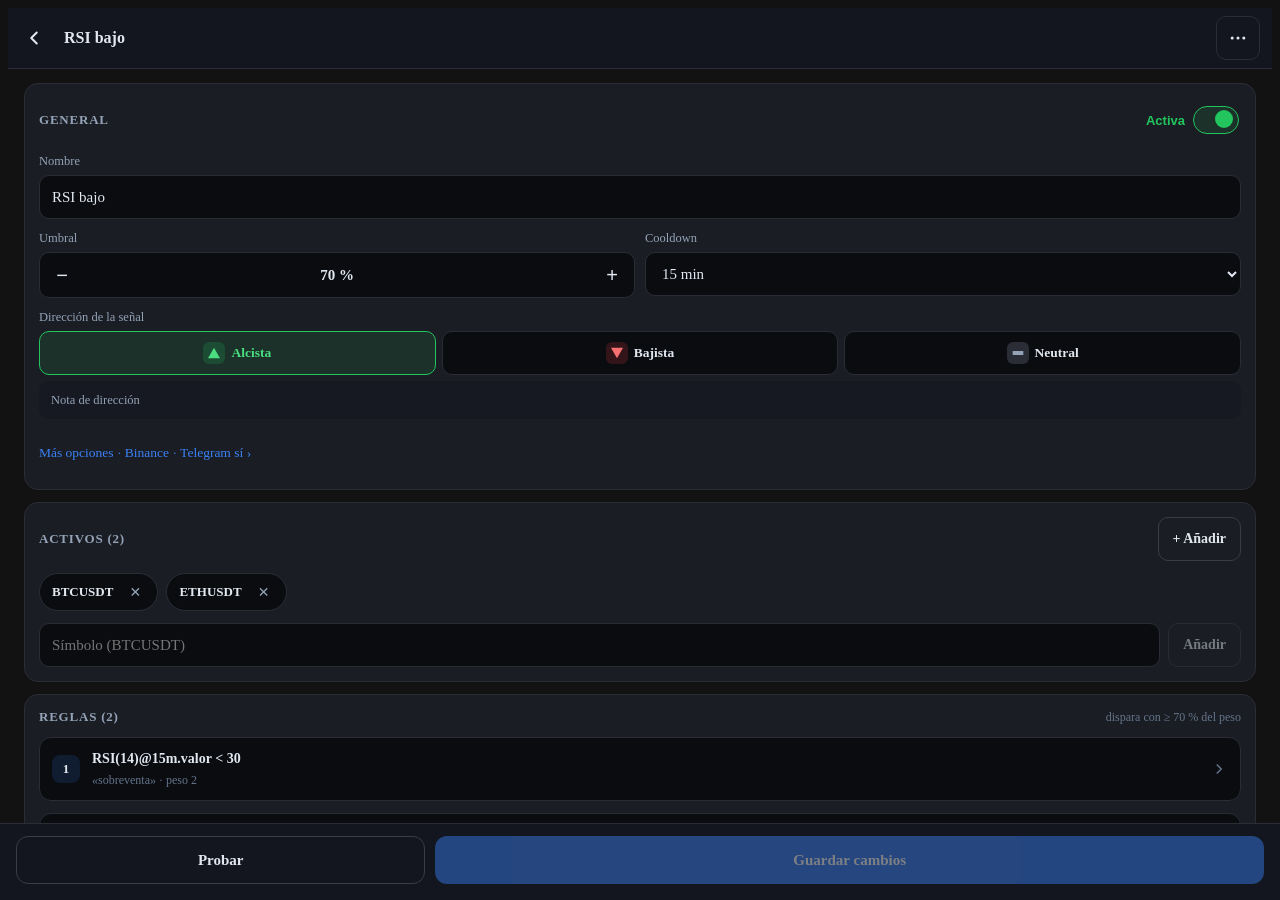
Scenario: MobileAlertEditor › el menú «⋯» ofrece «Probar y enviar Telegram» y muestra el resultado en la hoja
This screenshot has width=1280, height=900.
Click the button named "Más acciones": click(1238, 38) [1216,16,1260,60]
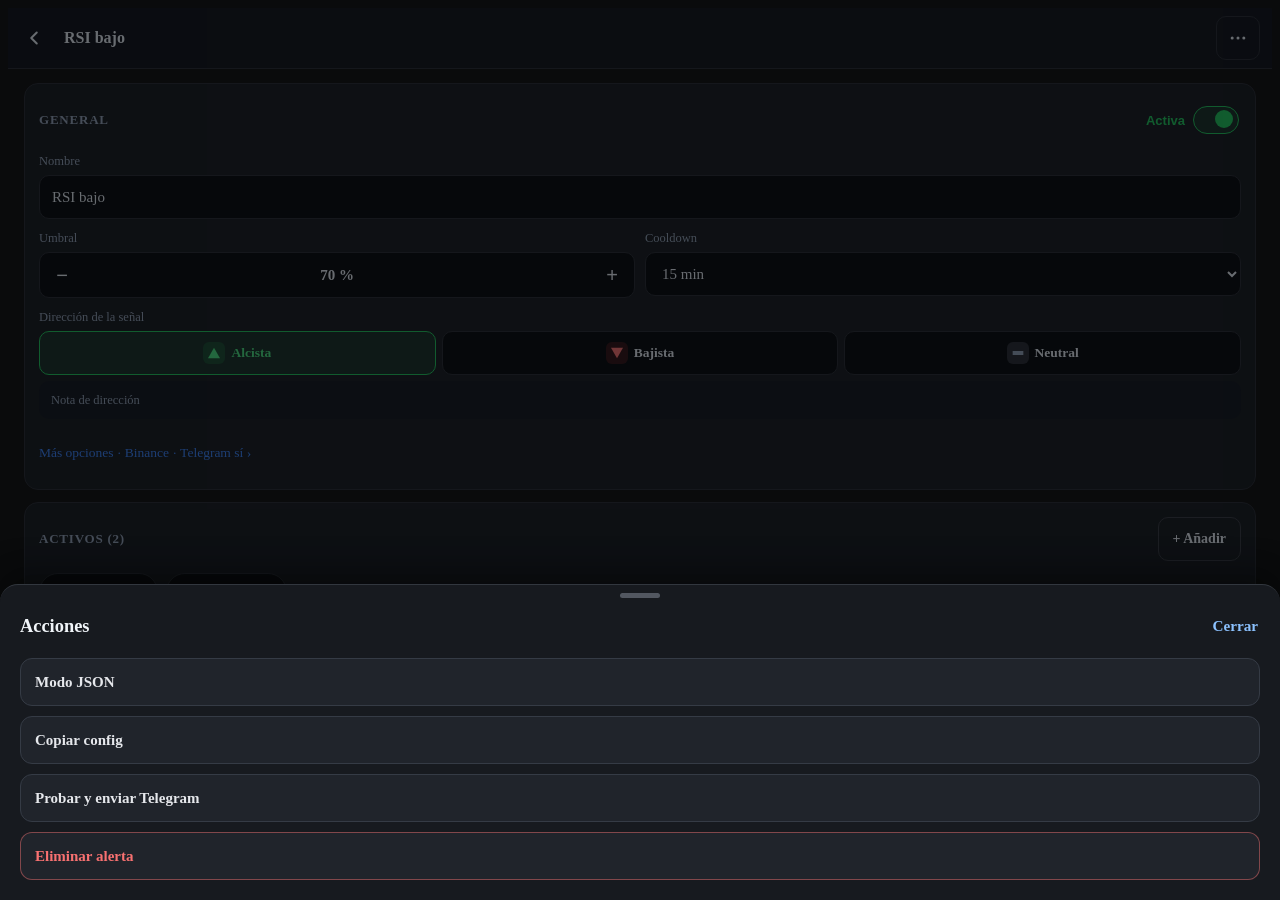
Click the button "Probar y enviar Telegram": click(117, 798) [20,774,1260,822]
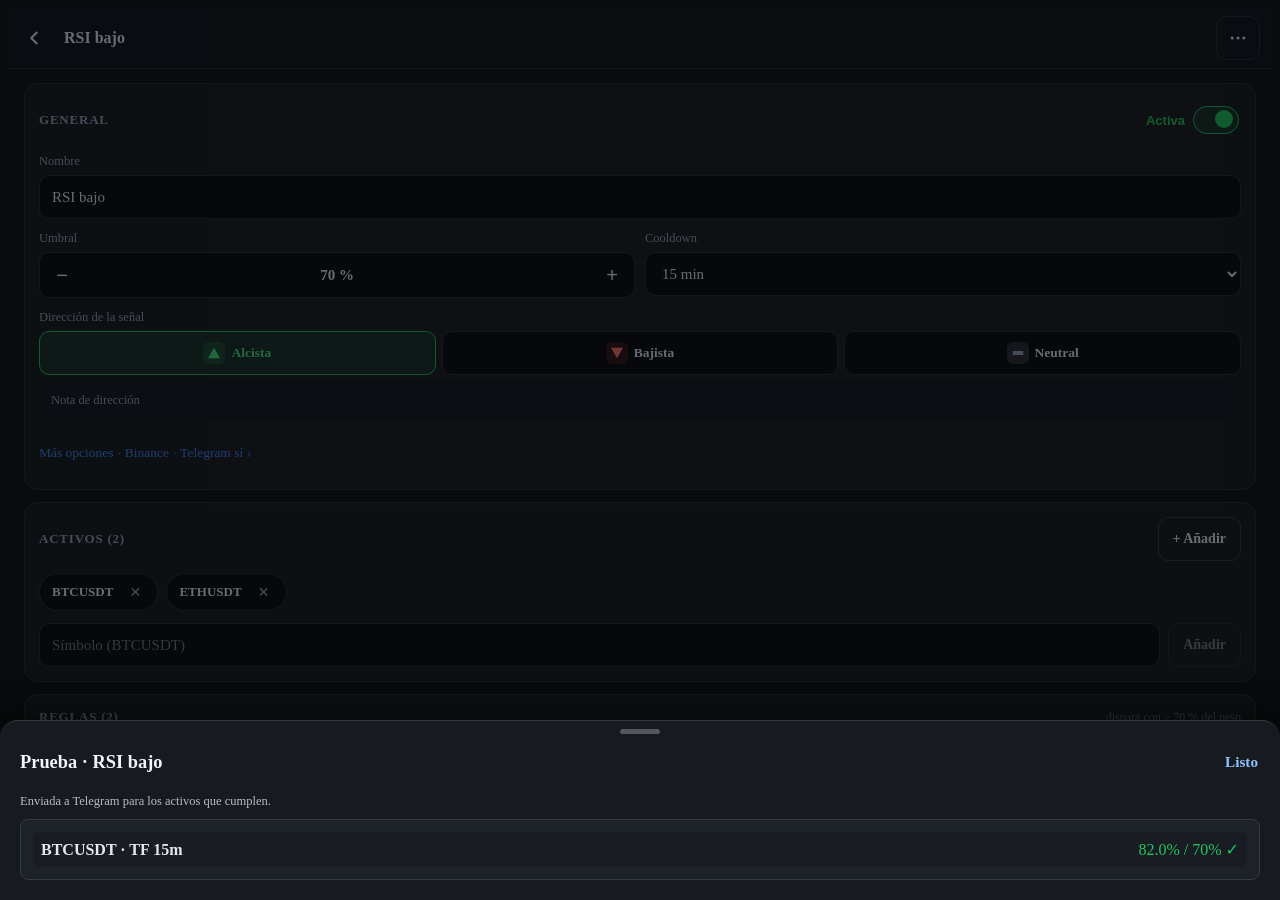
expect the text "82.0% / 70% ✓" is shown: met, box [1138,840,1239,859]
expect the text "Enviada a Telegram para los activos que cumplen." is shown: met, box [20,794,271,808]
